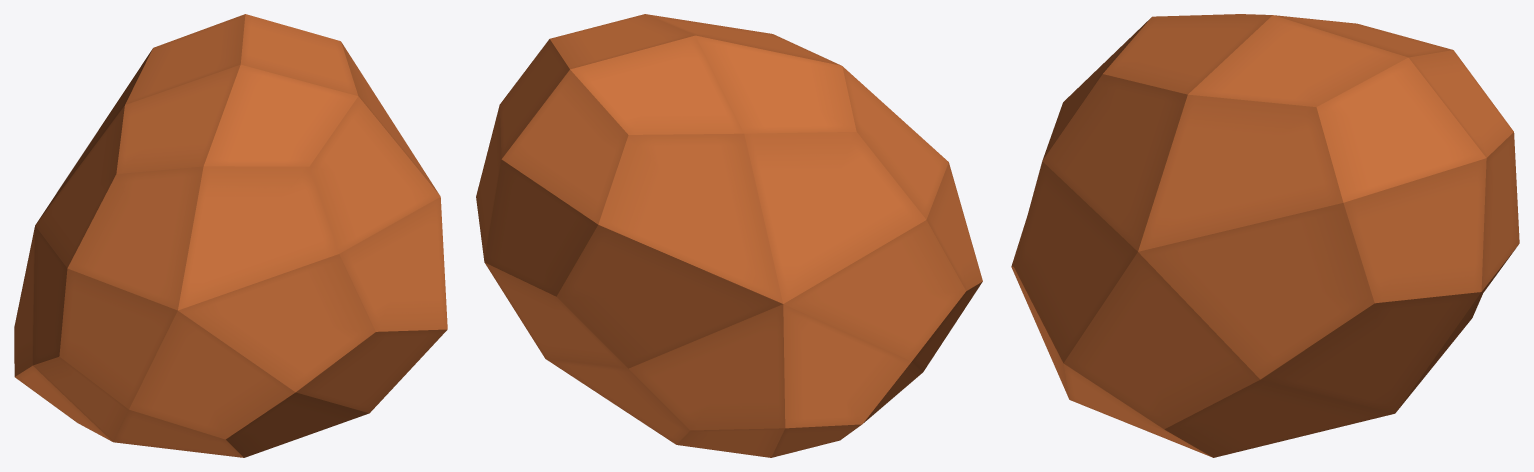
File: rock.gltf
3 renders of one model, left to right at view 1: azimuth 30°, elevation 25°; view 2: azimuth 150°, elevation 25°; view 3: azimuth 270°, elevation 25°, orthographic. The views are drawn at different scales.
Visible parts, largest first — view 1: Cube; view 2: Cube; view 3: Cube.
Part boxes in pixels (x1,y1,x2,y2): Cube: (14, 14, 447, 457); Cube: (476, 14, 982, 457); Cube: (1011, 14, 1519, 457).
Size of the model in its own units: 2.31 by 1.99 by 2.18.
1 material, 1 textured.
